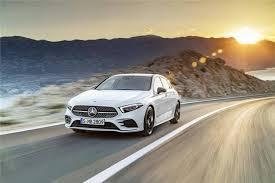car: (62, 72, 180, 132)
